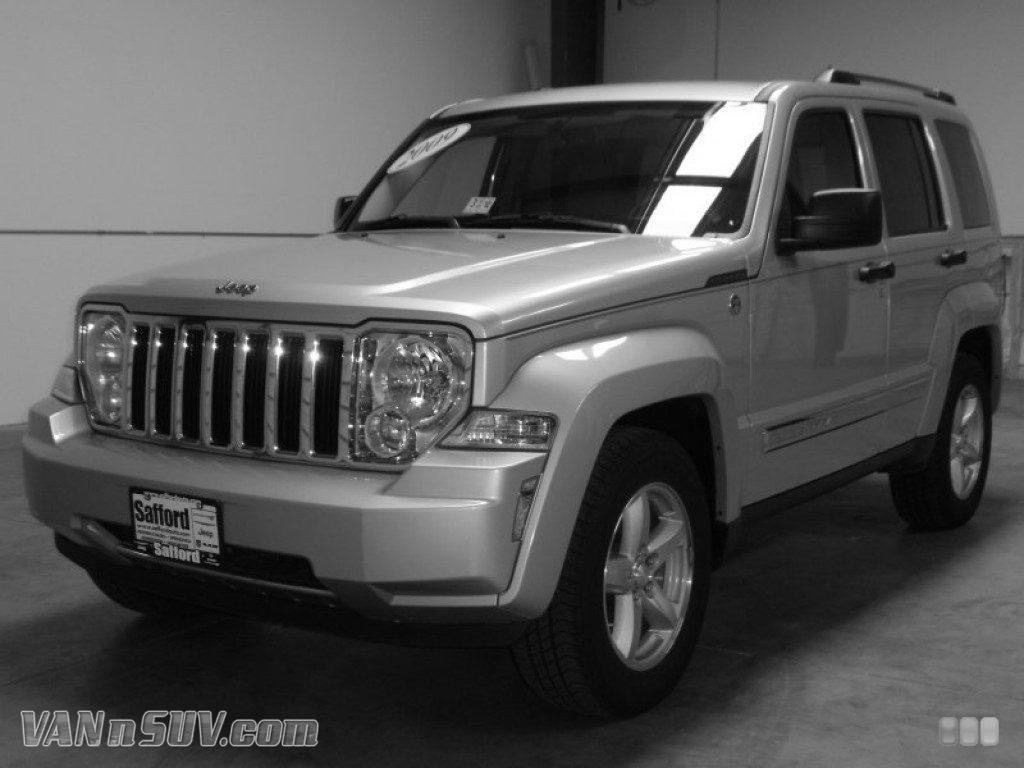car: (14, 64, 1013, 733)
